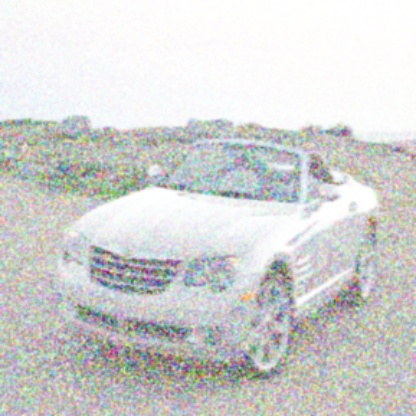Vehicle: (53, 138, 379, 380)
